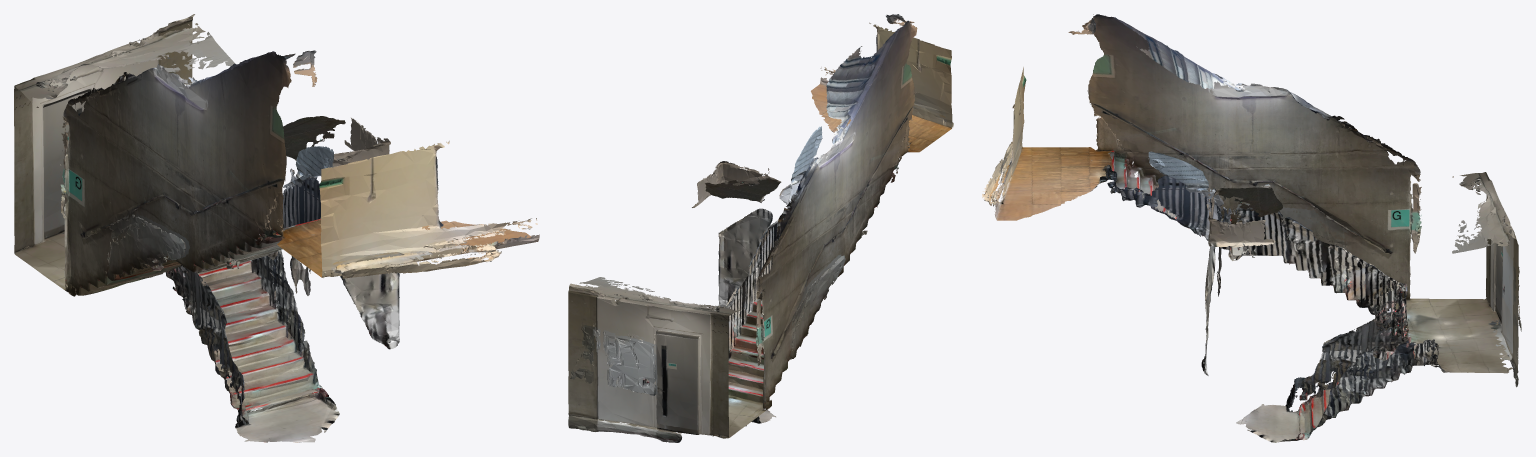
The model's file is Atrium_to_G_LOW_POLY.fbx.
3 views of the same model, side by side, from view 1: azimuth 30°, elevation 25°; view 2: azimuth 150°, elevation 25°; view 3: azimuth 270°, elevation 25° (orthographic). The views are drawn at different scales.
Visible parts, largest first — view 1: Atrium_to_G_LOW_POLY; view 2: Atrium_to_G_LOW_POLY; view 3: Atrium_to_G_LOW_POLY.
Part boxes in pixels (box(x1,y1,x2,y2)): Atrium_to_G_LOW_POLY: box(14, 14, 539, 442); Atrium_to_G_LOW_POLY: box(568, 14, 953, 442); Atrium_to_G_LOW_POLY: box(982, 14, 1521, 442).
Bounding box in the file's own units: 376 × 878 × 1169.
1 material, 1 textured.
